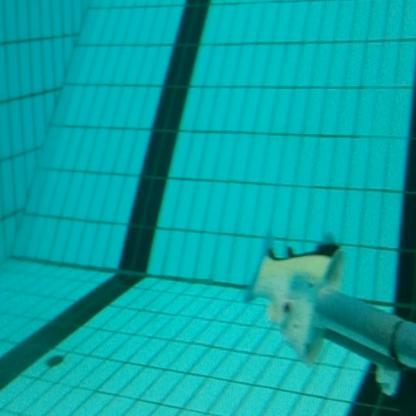tail: (240, 230, 350, 372)
